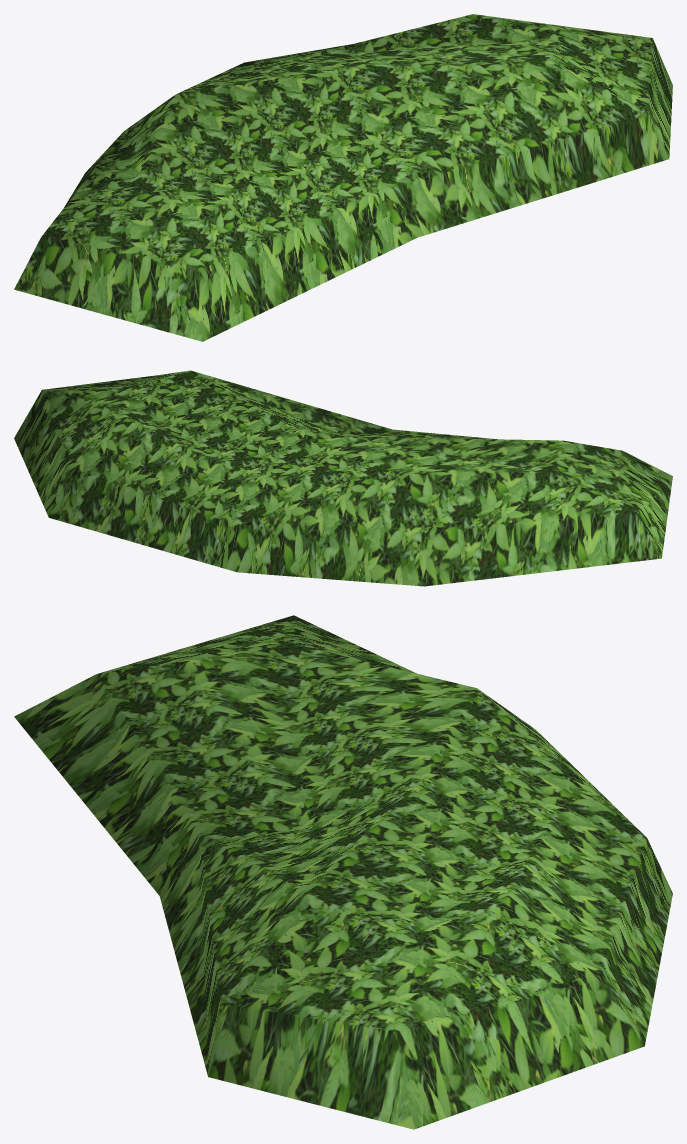
File: bush_1.fbx
3 renders of one model, top to bottom at view 1: azimuth 30°, elevation 25°; view 2: azimuth 150°, elevation 25°; view 3: azimuth 270°, elevation 25°, orthographic. The views are drawn at different scales.
Visible parts, largest first — view 1: bush_1; view 2: bush_1; view 3: bush_1.
Boxes of the visible parts, box(x1,y1,x2,y2) form: bush_1: box(14, 14, 672, 341); bush_1: box(14, 370, 672, 586); bush_1: box(14, 615, 672, 1129).
Size of the model in its own units: 958 by 121 by 565.
